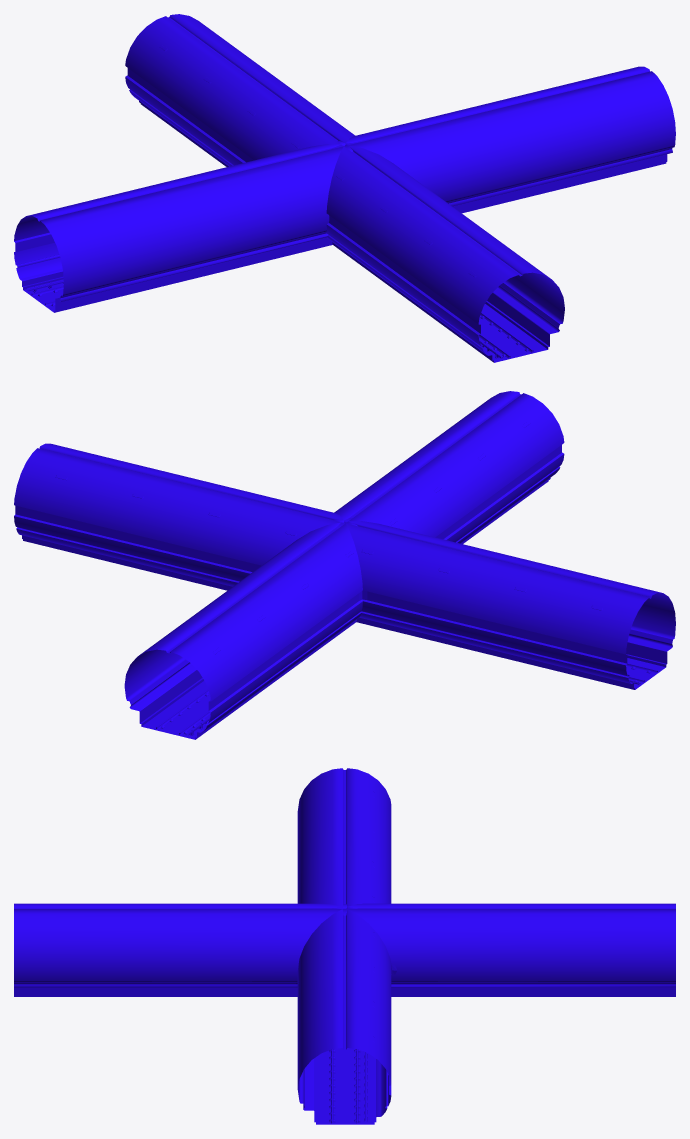
Rendered from 4way_collider.dae.
3 views of the same model, one above another, from view 1: azimuth 30°, elevation 25°; view 2: azimuth 150°, elevation 25°; view 3: azimuth 270°, elevation 25° (orthographic). The views are drawn at different scales.
Visible parts, largest first — view 1: FBXASC052Way_Collider; view 2: FBXASC052Way_Collider; view 3: FBXASC052Way_Collider.
Part boxes in pixels (x1,y1,x2,y2): FBXASC052Way_Collider: [14, 14, 675, 362]; FBXASC052Way_Collider: [14, 391, 675, 739]; FBXASC052Way_Collider: [14, 768, 675, 1124].
Bounding box in the file's own units: 4000 × 4000 × 532.
